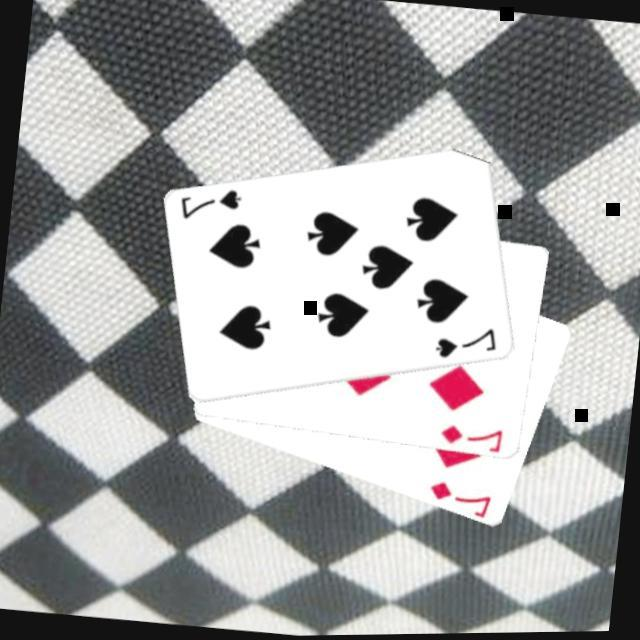7D: (422, 478, 494, 522), (434, 422, 504, 456)
7S: (172, 182, 245, 230), (429, 321, 500, 369)
